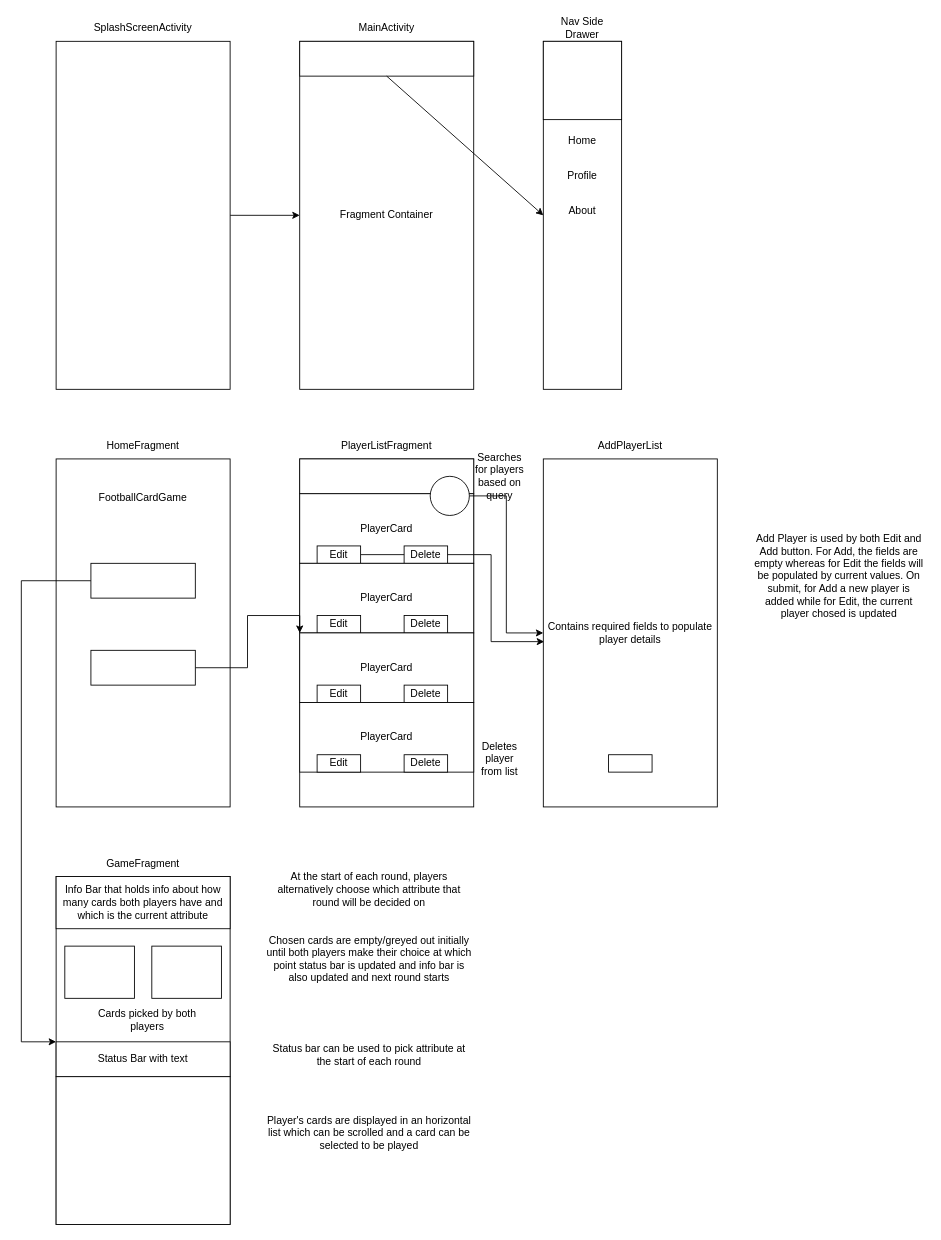
Image size: 941x1240. Some labels were removed from this diagram. The shapes that lost their labels are listed below. From the top down, each one's centre as x and y in pixels, then its label:
point (386, 58): Menu Bar opens side nav drawer
point (386, 476): SearchBar
point (449, 495): Add
point (142, 580): Play Game
point (142, 667): Player List
point (630, 763): Submit
point (142, 1150): Horizontal list of cards in the player's hand which can be chosen
